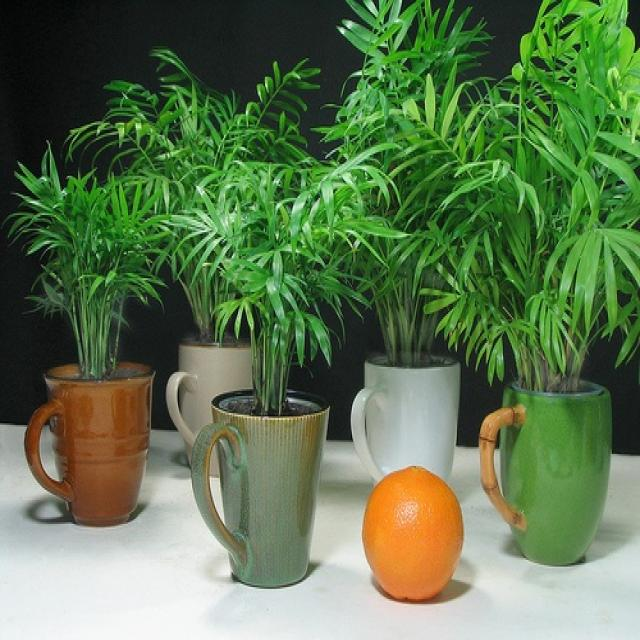pottedplant: (397, 4, 639, 564), (76, 41, 322, 497), (315, 3, 504, 500), (174, 155, 358, 599), (9, 150, 157, 528)
